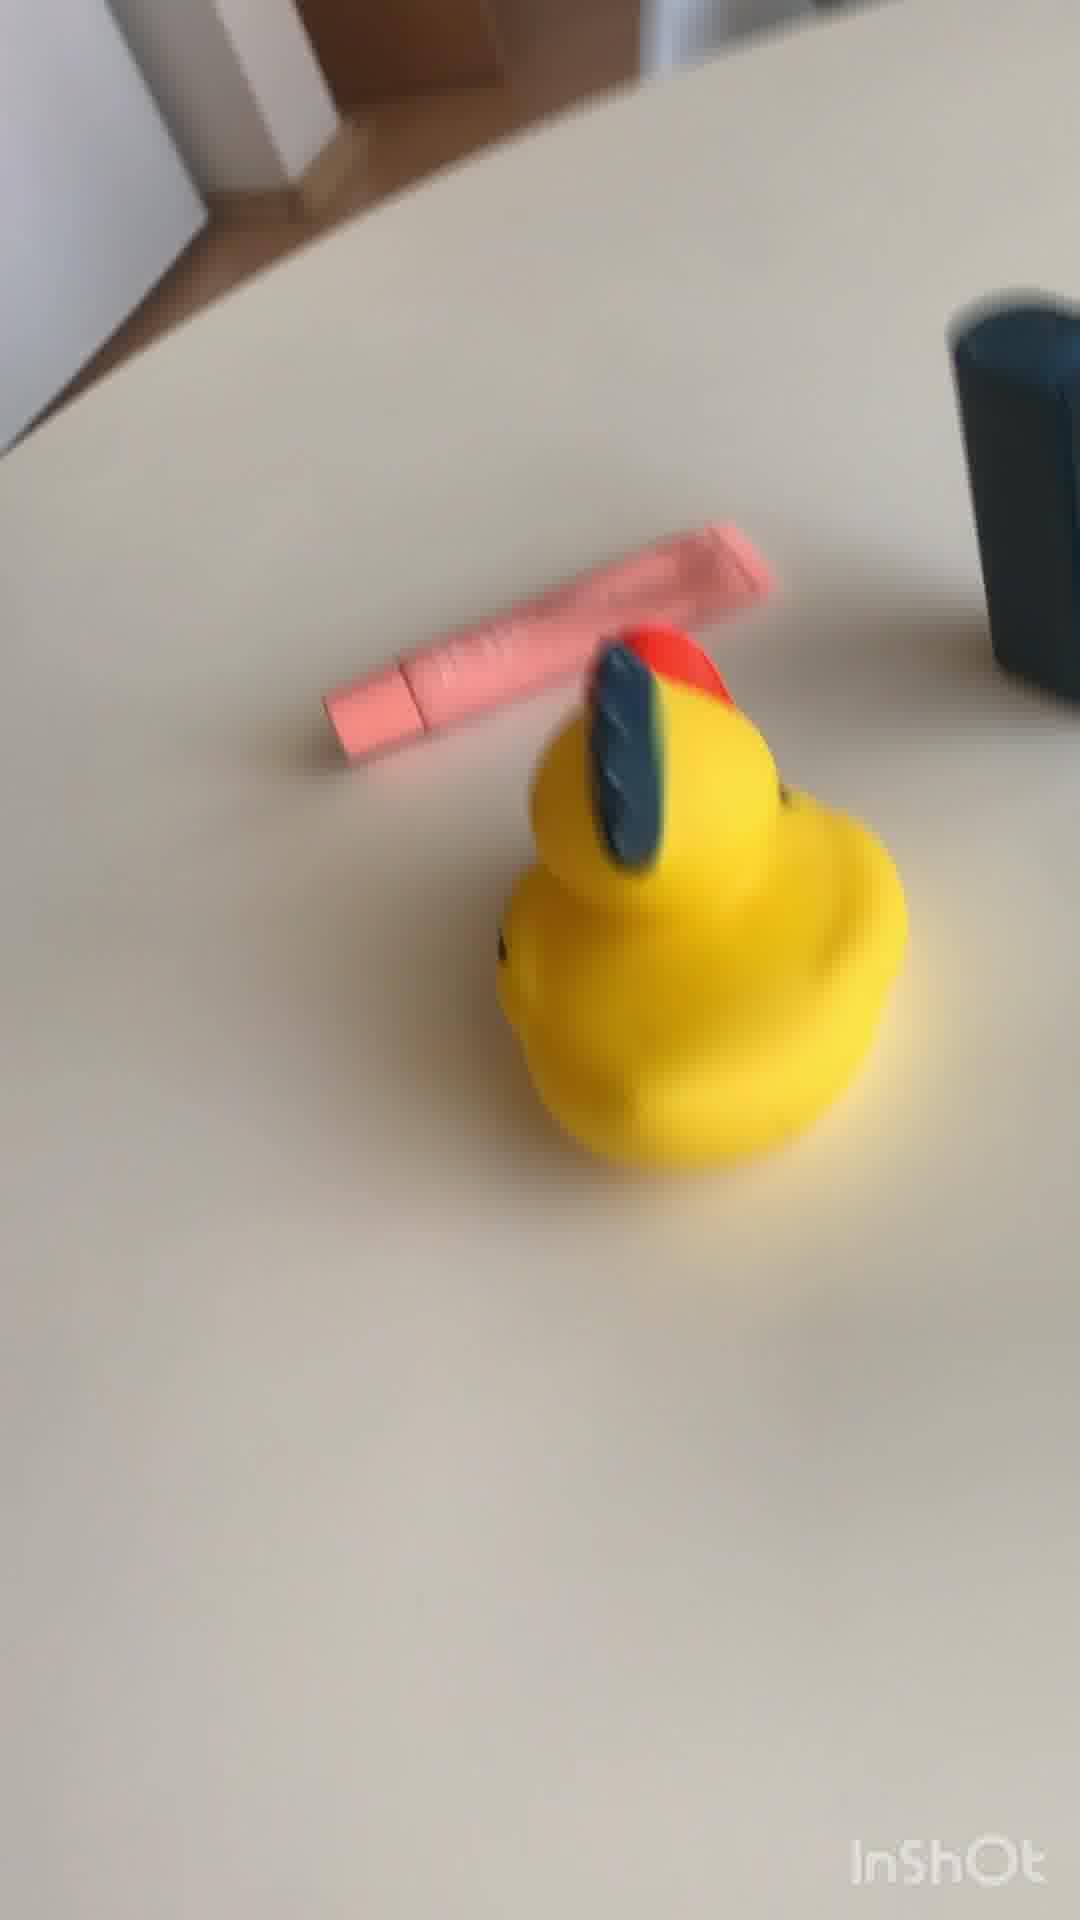duck: (485, 618, 909, 1189)
glo: (951, 293, 1080, 735)
lip balm: (315, 521, 771, 760)
